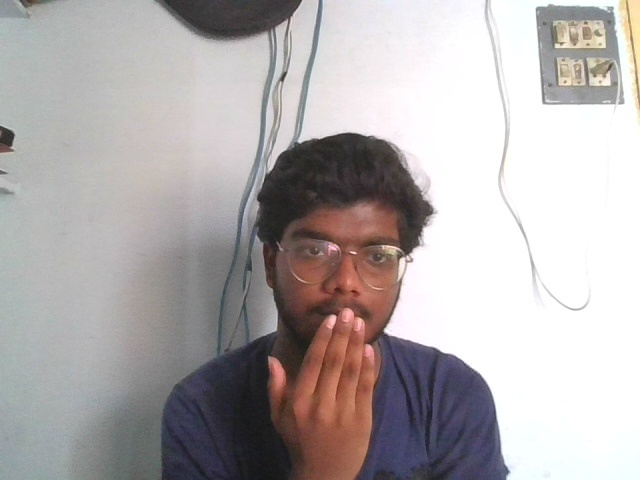Thanks: (264, 306, 377, 473)
